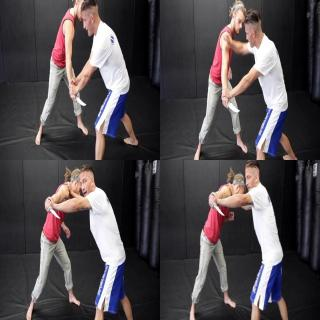knife: (206, 195, 226, 219), (42, 199, 62, 219), (221, 98, 241, 114), (69, 93, 87, 107)
